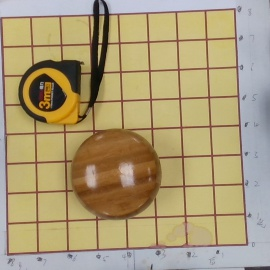chess: (69, 130, 164, 217)
